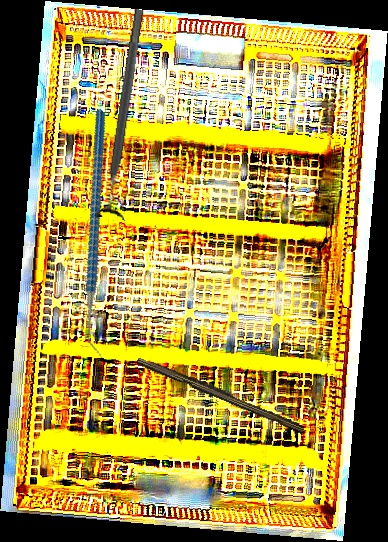Chopper: (11, 109, 188, 358)
Fixation Ring: (92, 7, 157, 221)
Scalpel Handle: (134, 353, 308, 435)
